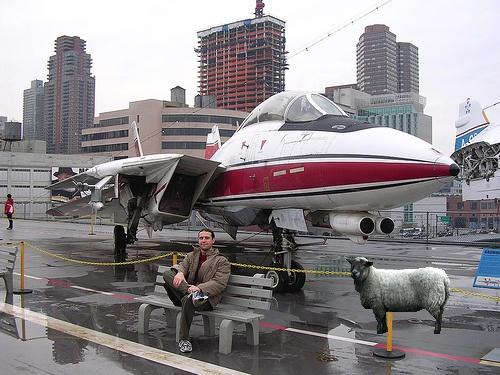tampered: (345, 257, 450, 334)
